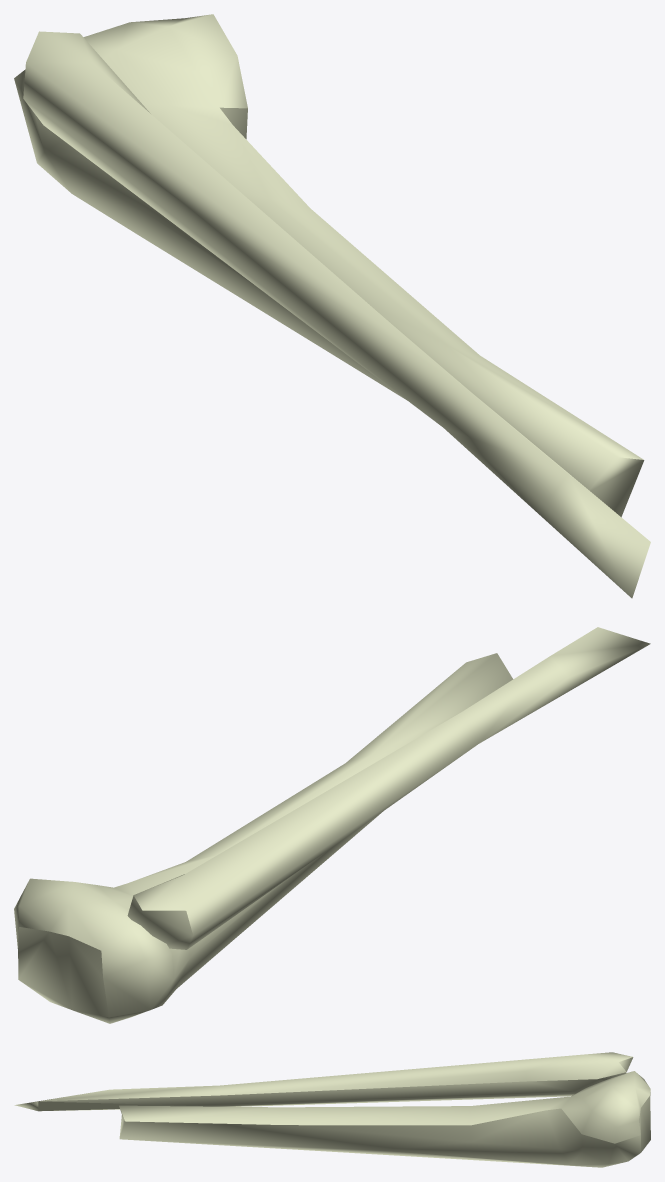
File: T_broken_bone_3.fbx
3 renders of one model, top to bottom at view 1: azimuth 30°, elevation 25°; view 2: azimuth 150°, elevation 25°; view 3: azimuth 270°, elevation 25°, orthographic. The views are drawn at different scales.
Visible parts, largest first — view 1: Cylinder; view 2: Cylinder; view 3: Cylinder.
Part boxes in pixels (left/top/right/bottom): Cylinder: left=14, top=14, right=650, bottom=598; Cylinder: left=14, top=627, right=650, bottom=1023; Cylinder: left=14, top=1052, right=650, bottom=1167.
Size of the model in its own units: 158 by 128 by 793.
